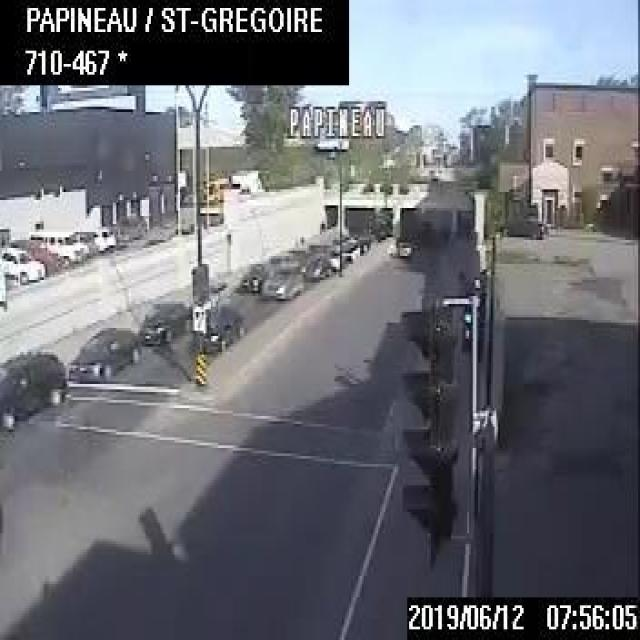vehicle: (0, 346, 65, 426), (66, 321, 140, 385), (134, 294, 188, 344), (24, 228, 87, 268), (192, 304, 244, 349), (0, 240, 45, 282), (258, 263, 306, 296), (496, 211, 546, 239), (82, 223, 116, 254), (226, 165, 262, 194), (236, 261, 262, 295), (300, 252, 330, 279), (383, 238, 411, 254)
